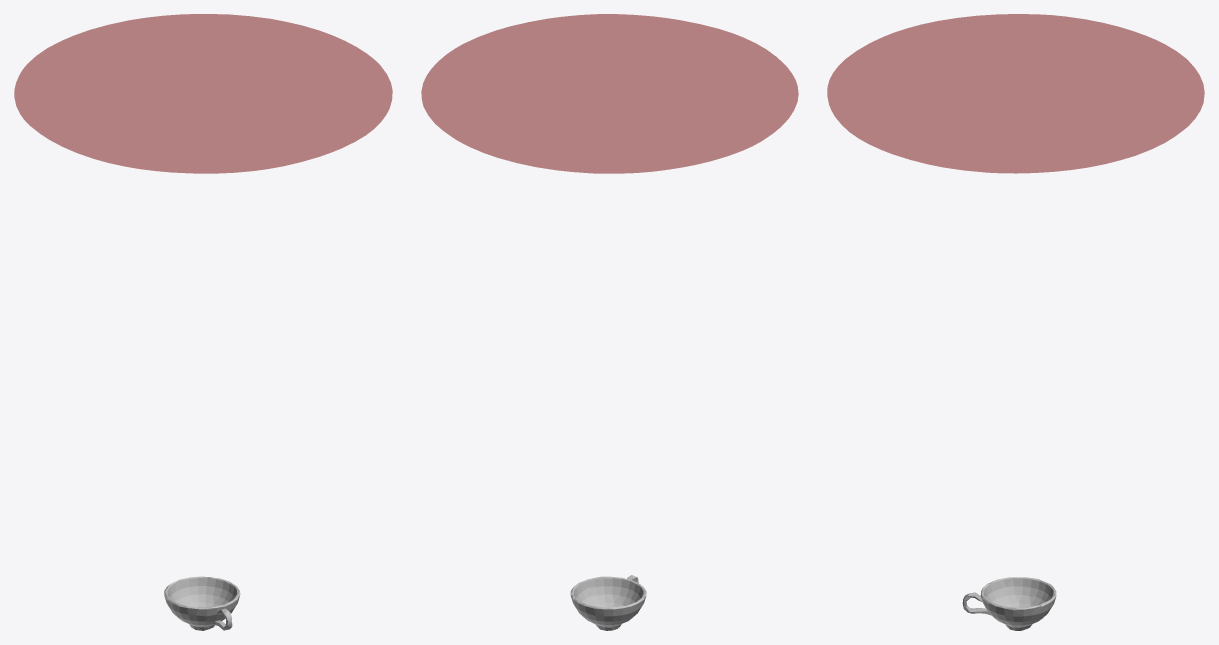
Rendered from init.glb.
3 renders of one model, left to right at view 1: azimuth 30°, elevation 25°; view 2: azimuth 150°, elevation 25°; view 3: azimuth 270°, elevation 25°, orthographic.
Parts seen in each view (by area): view 1: world, object.obj; view 2: world, object.obj; view 3: world, object.obj.
Boxes of the visible parts, box(x1,y1,x2,y2) form: world: box(14, 14, 392, 173); object.obj: box(164, 576, 240, 630); world: box(421, 14, 798, 173); object.obj: box(570, 575, 646, 630); world: box(827, 14, 1204, 173); object.obj: box(962, 577, 1056, 630).
Bounding box in the file's own units: 0.6416 × 0.9991 × 0.6416.
